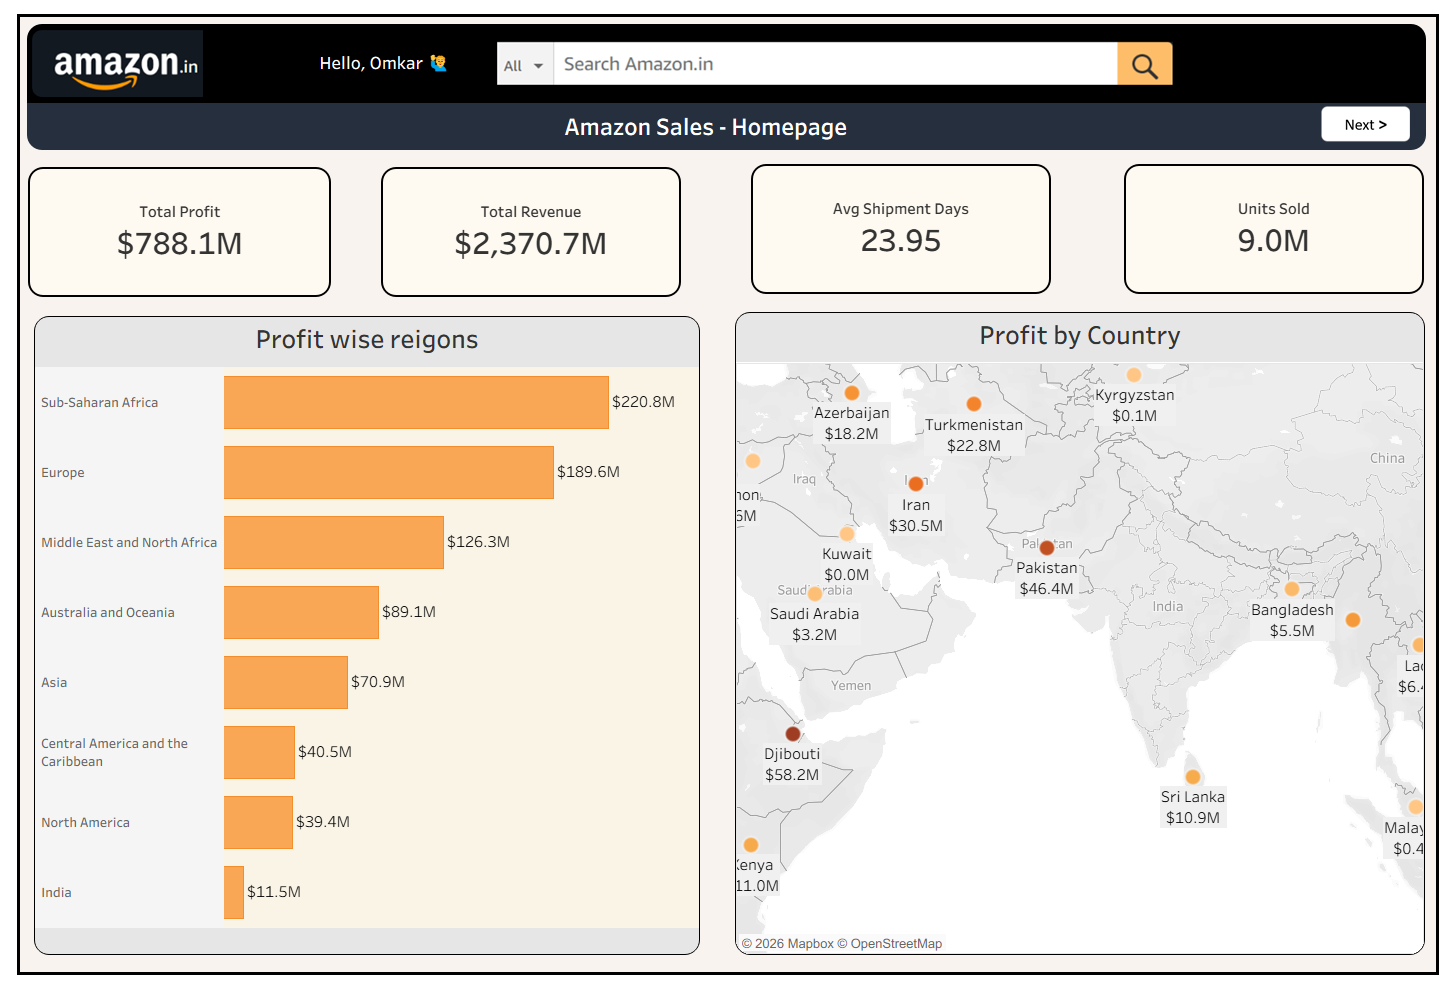

This screenshot's page, from the dashboard's own definition file:
{"tool":"tableau","page":{"name":"Welcome Page","canvas":[1000,1000],"units":"permille","ordinal":3},"visuals":[{"type":"blank","box":[0,0,1001.4,1001]},{"type":"blank","box":[7,10.4,985.2,105.2]},{"type":"image","param":"Image/Picture3.png","box":[10.6,16.3,126.5,69.8]},{"type":"image","param":"Image/Picture5.png","box":[338,28.1,476.1,49]},{"type":"text","box":[210.6,32.3,112.7,35.4]},{"type":"blank","box":[7,92.7,985.2,49]},{"type":"dashboard-object","box":[918.3,94.8,62.7,42.7]},{"type":"text","box":[383.3,95.4,225.8,40.7]},{"type":"worksheet","title":"Shipment Days","mark":"Automatic","box":[516.9,156.2,211.3,135.4]},{"type":"worksheet","title":"Units Sold","mark":"Automatic","box":[779.6,156.2,211.3,135.4]},{"type":"worksheet","title":"Profit","mark":"Automatic","box":[7.8,159.4,213.4,135.4]},{"type":"worksheet","title":"Revenue","mark":"Automatic","box":[256.3,159.4,211.3,135.4]},{"type":"worksheet","title":"Profit by Country","mark":"Circle","box":[505.6,310.4,485.9,669.8]},{"type":"worksheet","title":"Profit wise reigons","mark":"Automatic","rows":["Region"],"cols":["Calculation_0173743131983872"],"box":[12,314.6,469,665.6]}]}

Visuals, with their boxes on the dashboard's canvas, which has no fixed pixel size, in thousandths of its width and height (x1, y1, x2, y2). These are canvas units, not pixel positions in the 1453x997 screenshot, which may show the page scaled, cropped or inside an application window:
blank: region(0, 0, 1001, 1001)
blank: region(7, 10, 992, 116)
image: region(11, 16, 137, 86)
image: region(338, 28, 814, 77)
text: region(211, 32, 323, 68)
blank: region(7, 93, 992, 142)
dashboard-object: region(918, 95, 981, 138)
text: region(383, 95, 609, 136)
"Shipment Days" worksheet: region(517, 156, 728, 292)
"Units Sold" worksheet: region(780, 156, 991, 292)
"Profit" worksheet: region(8, 159, 221, 295)
"Revenue" worksheet: region(256, 159, 468, 295)
"Profit by Country" worksheet (Circle marks): region(506, 310, 992, 980)
"Profit wise reigons" worksheet: region(12, 315, 481, 980)
